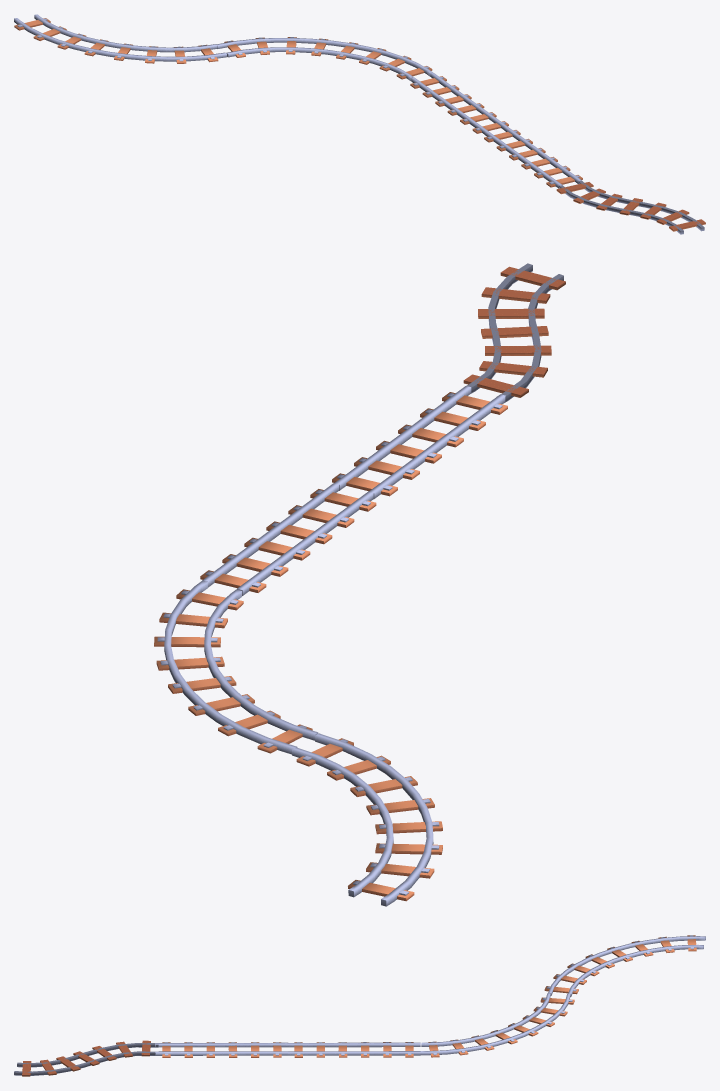
File: traintest2.glb
3 renders of one model, top to bottom at view 1: azimuth 30°, elevation 25°; view 2: azimuth 150°, elevation 25°; view 3: azimuth 270°, elevation 25°, orthographic. The views are drawn at different scales.
Parts seen in each view (by area): view 1: railroad-corner-large.005, railroad-corner-large.004, railroad-curve.001, railroad-straight.029, railroad-straight.023; view 2: railroad-corner-large.004, railroad-corner-large.005, railroad-curve.001, railroad-straight.023, railroad-straight.029; view 3: railroad-corner-large.005, railroad-corner-large.004, railroad-curve.001, railroad-straight.029, railroad-straight.023.
Part boxes in pixels (x1,y1,x2,y2): railroad-corner-large.005: (14, 14, 226, 63); railroad-corner-large.004: (216, 37, 432, 80); railroad-curve.001: (556, 180, 705, 234); railroad-straight.029: (410, 73, 508, 134); railroad-straight.023: (484, 127, 582, 188); railroad-corner-large.004: (154, 580, 318, 754); railroad-corner-large.005: (292, 733, 442, 906); railroad-curve.001: (463, 263, 565, 402); railroad-straight.023: (332, 386, 507, 498); railroad-straight.029: (200, 483, 376, 595); railroad-corner-large.005: (544, 935, 705, 996); railroad-corner-large.004: (420, 993, 574, 1057); railroad-curve.001: (14, 1040, 158, 1076); railroad-straight.029: (287, 1042, 420, 1057); railroad-straight.023: (155, 1042, 288, 1057).
Size of the model in its own units: 9.92 by 0.1599 by 20.81.
3 materials, 3 textured.
